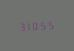five: (39, 19, 45, 30), (46, 19, 52, 30)
one: (25, 20, 31, 31)
three: (18, 20, 24, 31)
zero: (32, 20, 38, 30)
